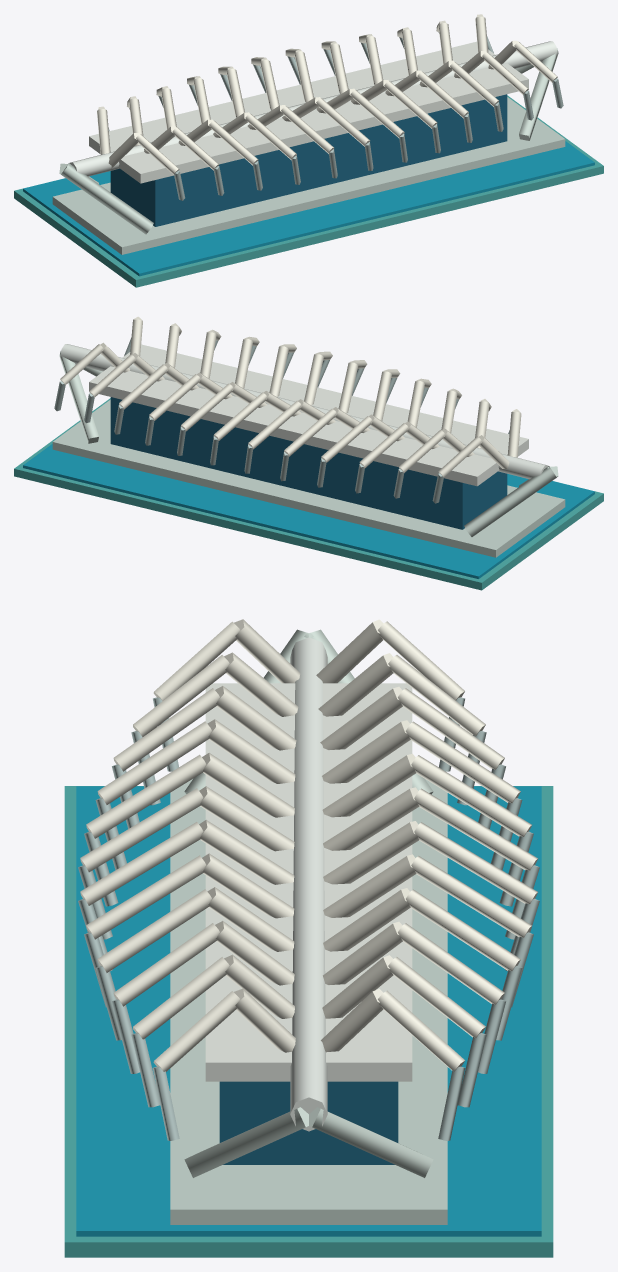
The model's file is museum-of-tomorrow.glb.
The picture shows the model from 3 angles, top to bottom: view 1: azimuth 30°, elevation 25°; view 2: azimuth 150°, elevation 25°; view 3: azimuth 270°, elevation 25°; orthographic projection. The views are drawn at different scales.
Parts seen in each view (by area): view 1: canopy_E7EBDD, glazing_759EA0, roof_E5E8DC, water_6EAAAD, pier_D5DCCF, base_A9BFB3, canopy_CEDACE, support_DDE5D8, spine_E3E9DD; view 2: canopy_E7EBDD, glazing_759EA0, roof_E5E8DC, water_6EAAAD, pier_D5DCCF, base_A9BFB3, canopy_CEDACE, support_DDE5D8, spine_E3E9DD; view 3: canopy_E7EBDD, water_6EAAAD, pier_D5DCCF, roof_E5E8DC, base_A9BFB3, spine_E3E9DD, canopy_CEDACE, glazing_759EA0, support_DDE5D8.
Part boxes in pixels (bbox=[...]): canopy_E7EBDD: bbox=[97, 14, 557, 174]; glazing_759EA0: bbox=[110, 94, 507, 226]; roof_E5E8DC: bbox=[89, 41, 528, 183]; water_6EAAAD: bbox=[23, 141, 594, 276]; pier_D5DCCF: bbox=[52, 97, 565, 254]; base_A9BFB3: bbox=[14, 95, 603, 287]; canopy_CEDACE: bbox=[108, 32, 563, 200]; support_DDE5D8: bbox=[59, 48, 558, 234]; spine_E3E9DD: bbox=[69, 41, 557, 176]; canopy_E7EBDD: bbox=[60, 316, 521, 477]; glazing_759EA0: bbox=[110, 397, 507, 529]; roof_E5E8DC: bbox=[89, 344, 528, 486]; water_6EAAAD: bbox=[23, 444, 594, 578]; pier_D5DCCF: bbox=[52, 399, 565, 557]; base_A9BFB3: bbox=[14, 398, 603, 590]; canopy_CEDACE: bbox=[54, 337, 509, 503]; support_DDE5D8: bbox=[59, 351, 558, 536]; spine_E3E9DD: bbox=[60, 344, 548, 479]; canopy_E7EBDD: bbox=[80, 619, 538, 1071]; water_6EAAAD: bbox=[76, 786, 541, 1236]; pier_D5DCCF: bbox=[170, 779, 447, 1224]; roof_E5E8DC: bbox=[205, 683, 412, 1081]; base_A9BFB3: bbox=[64, 786, 553, 1257]; spine_E3E9DD: bbox=[290, 637, 327, 1131]; canopy_CEDACE: bbox=[78, 697, 539, 1140]; glazing_759EA0: bbox=[219, 1081, 398, 1164]; support_DDE5D8: bbox=[184, 629, 433, 1177].
Size of the model in its own units: 1 by 0.2156 by 0.4251.
